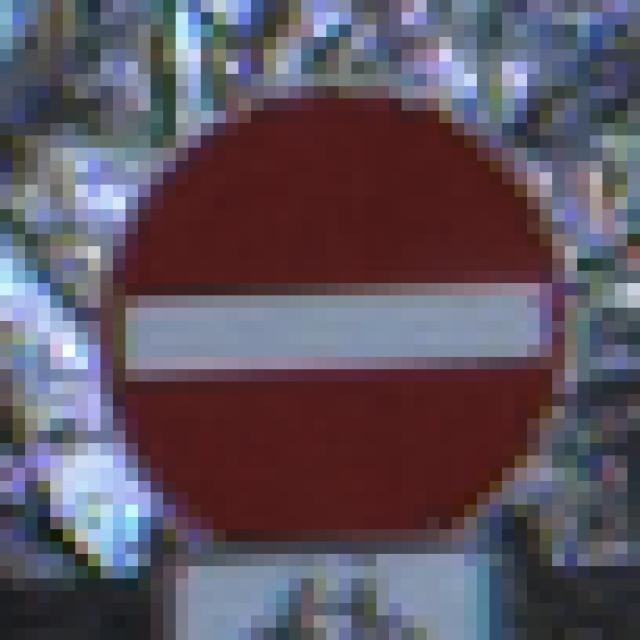No Entry: (77, 75, 579, 579)
